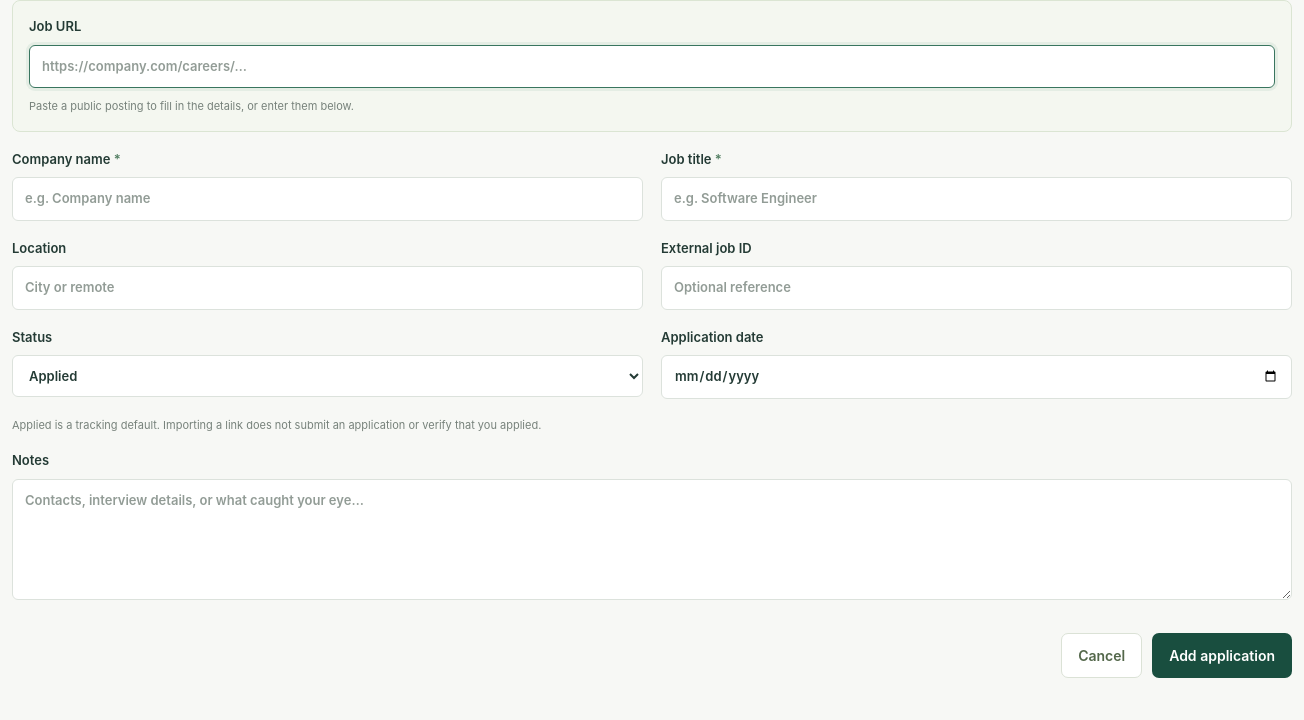
Scenario: application form › shows save errors and lets the user retry
This screenshot has width=1304, height=720.
Type "Acme" into the field labelled "Company name *" at x=328, y=199, box [12, 177, 643, 220]
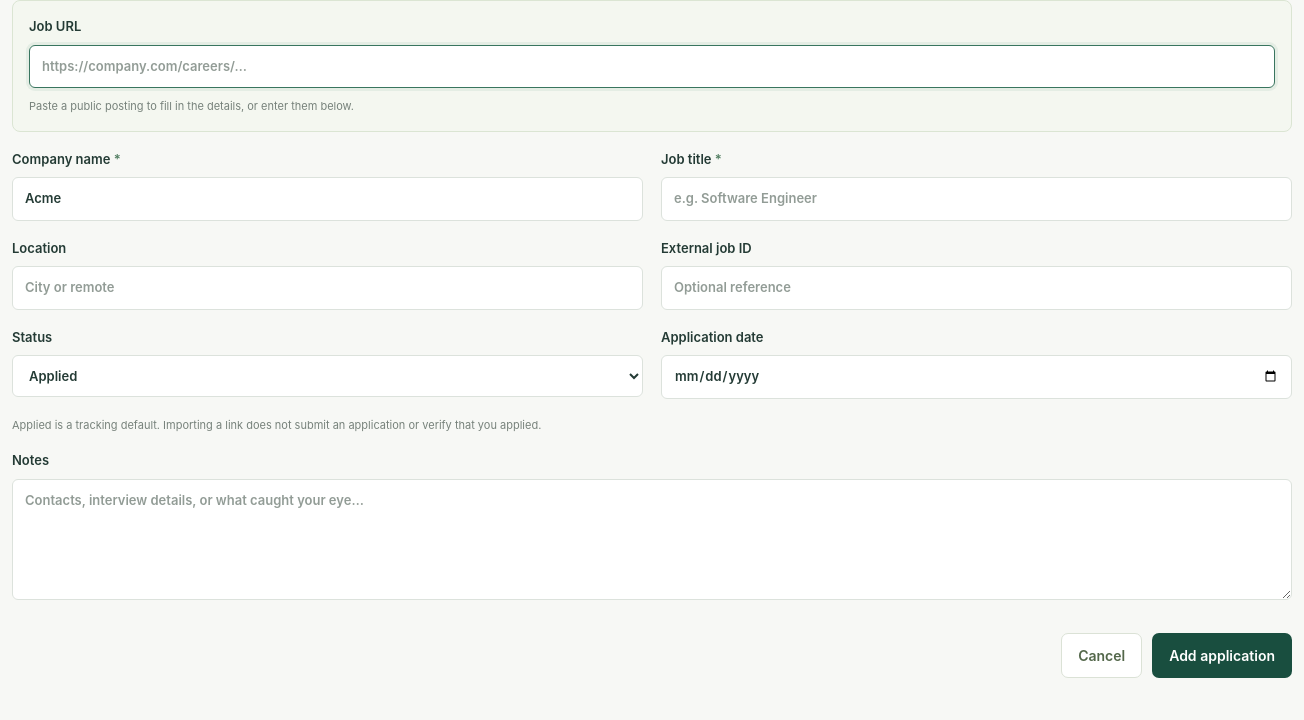
Type "Engineer" into the field labelled "Job title *" at x=976, y=199, box [661, 177, 1292, 220]
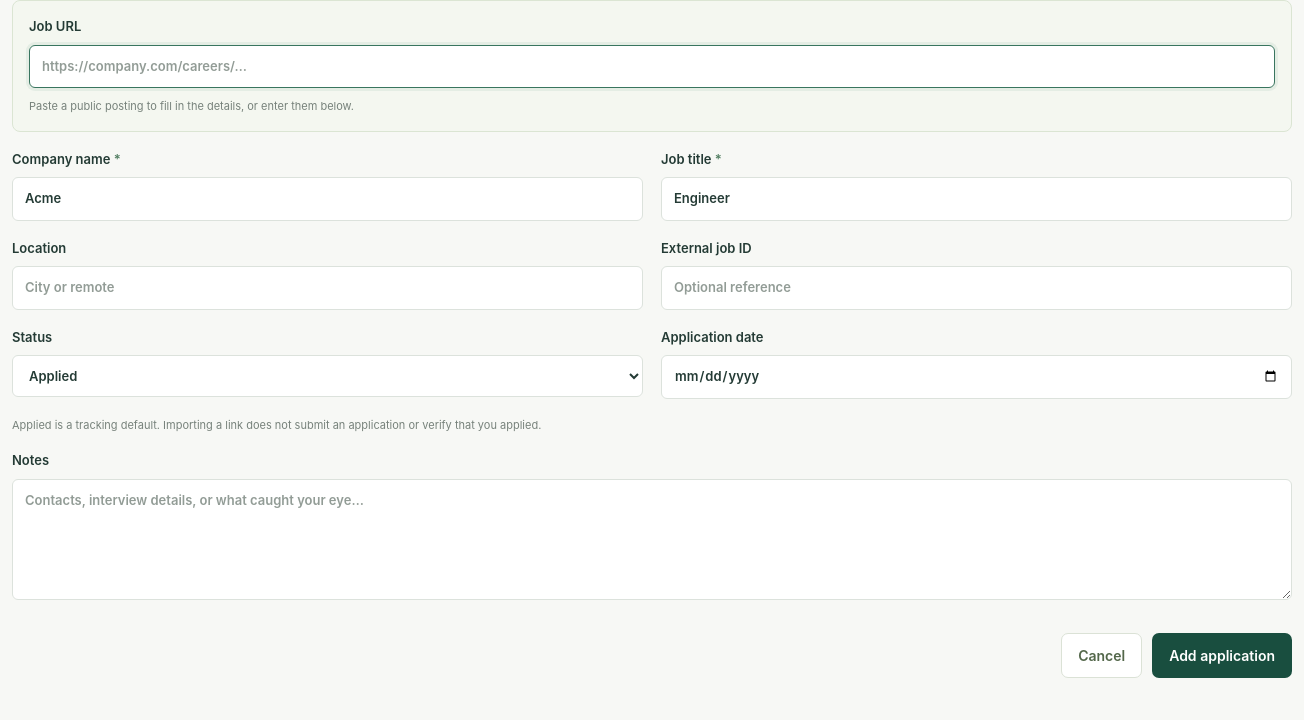
Click the button "Add application" at x=1222, y=656, box [1152, 633, 1292, 678]
(page scrolled)
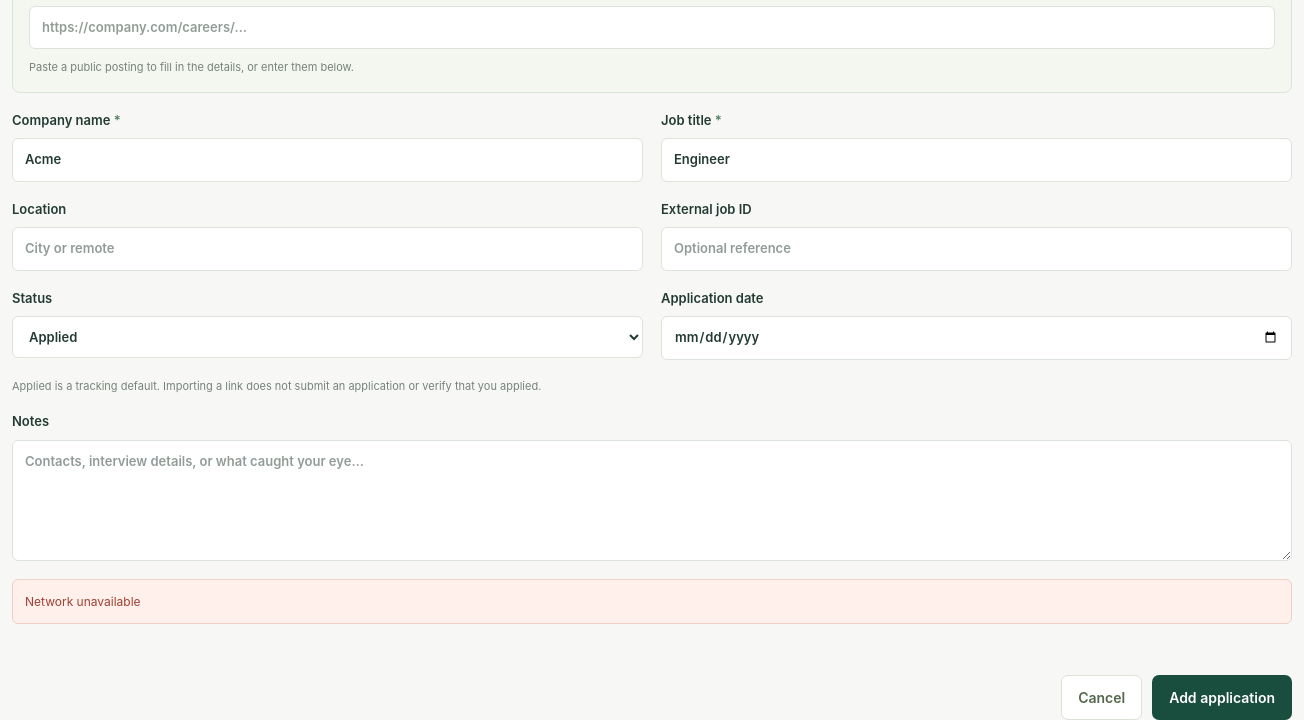
Expected: the button "Add application" is enabled, [1152, 675, 1292, 719]
Now the message reads "Network unavailable", box [25, 594, 141, 609]
